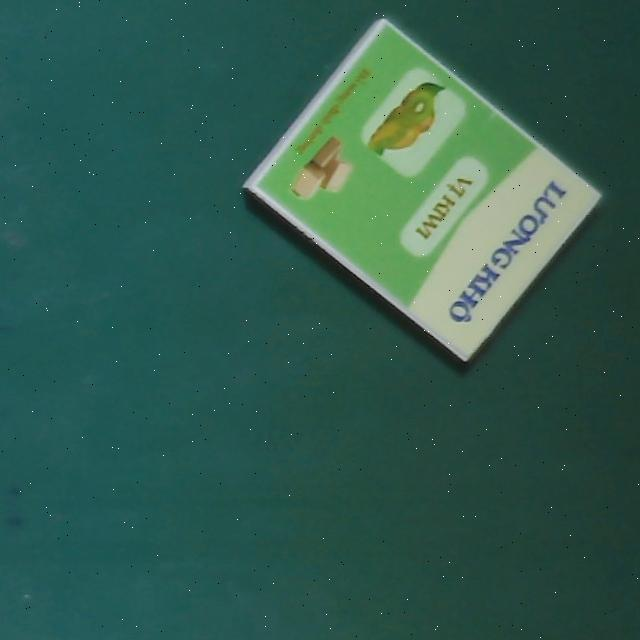kiwi: (242, 14, 604, 365)
